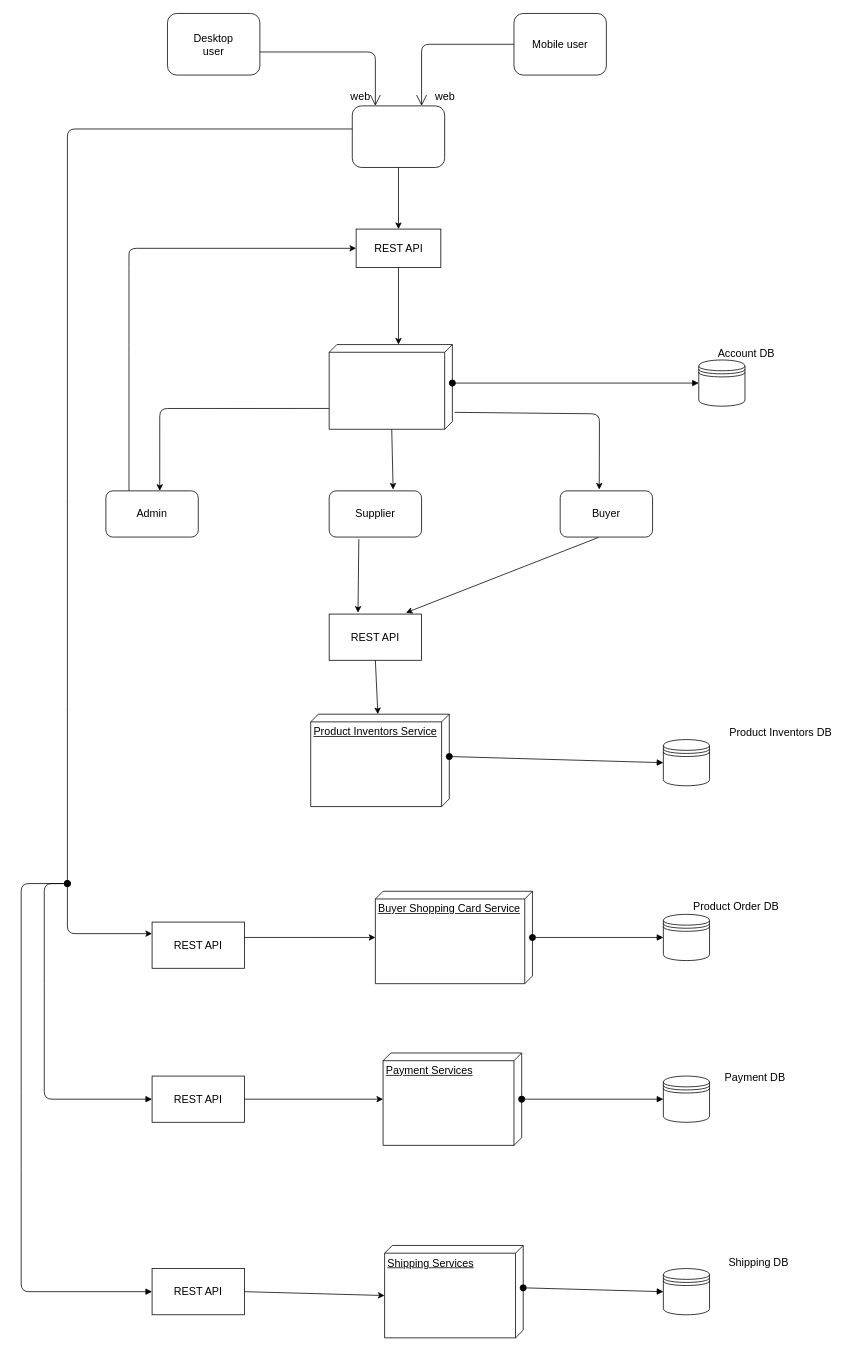
The diagram is 857 pixels wide and 1351 high, and some of its shapes have lost their labels. The shapes that lost their labels are listed below. From the top down, each one's centre as x and y in pixels, then its label:
At (x=398, y=136): "eCommerce webapp UI".
At (x=390, y=386): "Account Service".
